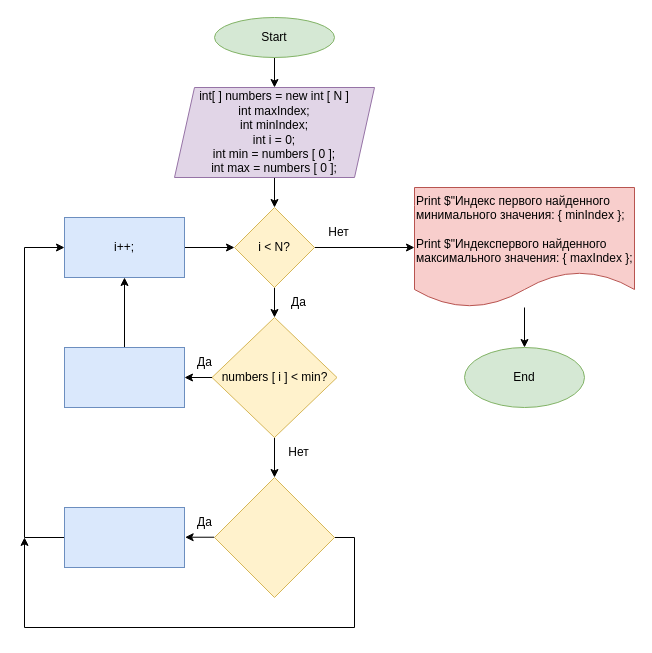
Image size: 652x653. Some labels were removed from this diagram. The box of each missing label's shape, as (x1, y1, x2, y2) in pixels:
max = numbers [ i ]; maxIndex = i;: (64, 506, 184, 568)
min = numbers [ i ]; minIndex = i;: (64, 346, 184, 408)
numbers [ i ] > max?: (214, 476, 334, 598)
